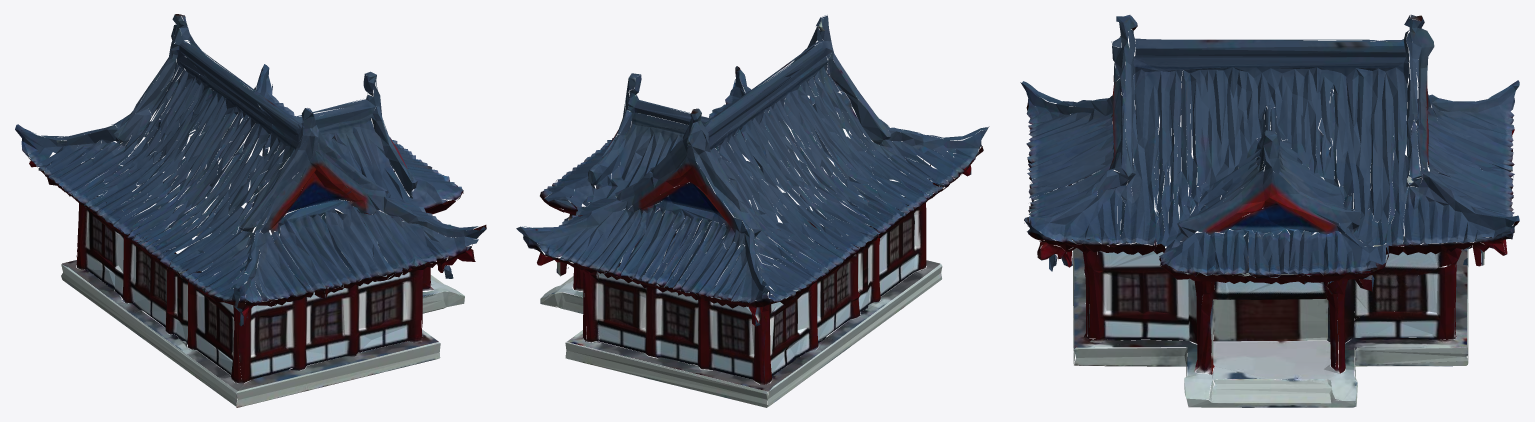
Rendered from 07_shouting_fountain.glb.
3 renders of one model, left to right at view 1: azimuth 30°, elevation 25°; view 2: azimuth 150°, elevation 25°; view 3: azimuth 270°, elevation 25°, orthographic. The views are drawn at different scales.
Visible parts, largest first — view 1: 07_shouting_fountain.ply; view 2: 07_shouting_fountain.ply; view 3: 07_shouting_fountain.ply.
Part boxes in pixels (x1,y1,x2,y2): 07_shouting_fountain.ply: (15,14,486,407); 07_shouting_fountain.ply: (516,15,989,407); 07_shouting_fountain.ply: (1020,14,1519,407).
Bounding box in the file's own units: 0.7995 × 0.6482 × 1.01.
1 material, 1 textured.
